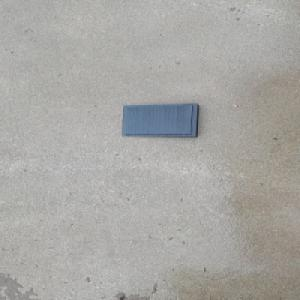PlasticPart: (120, 102, 201, 138)
